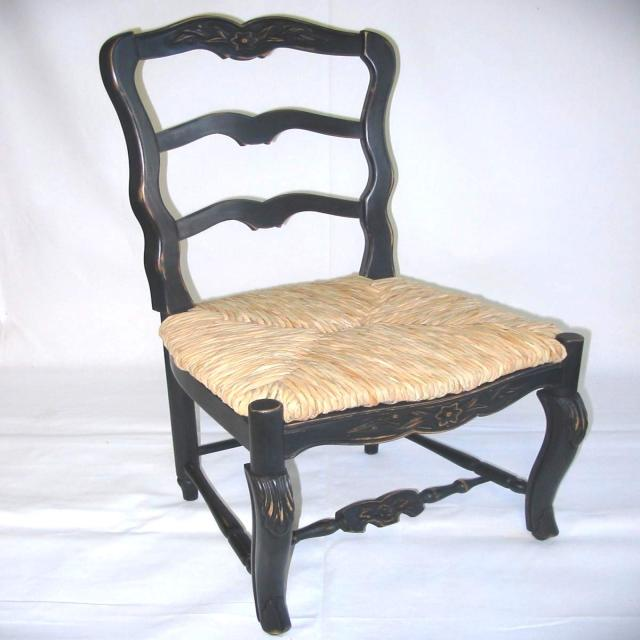chair: (98, 12, 589, 636)
